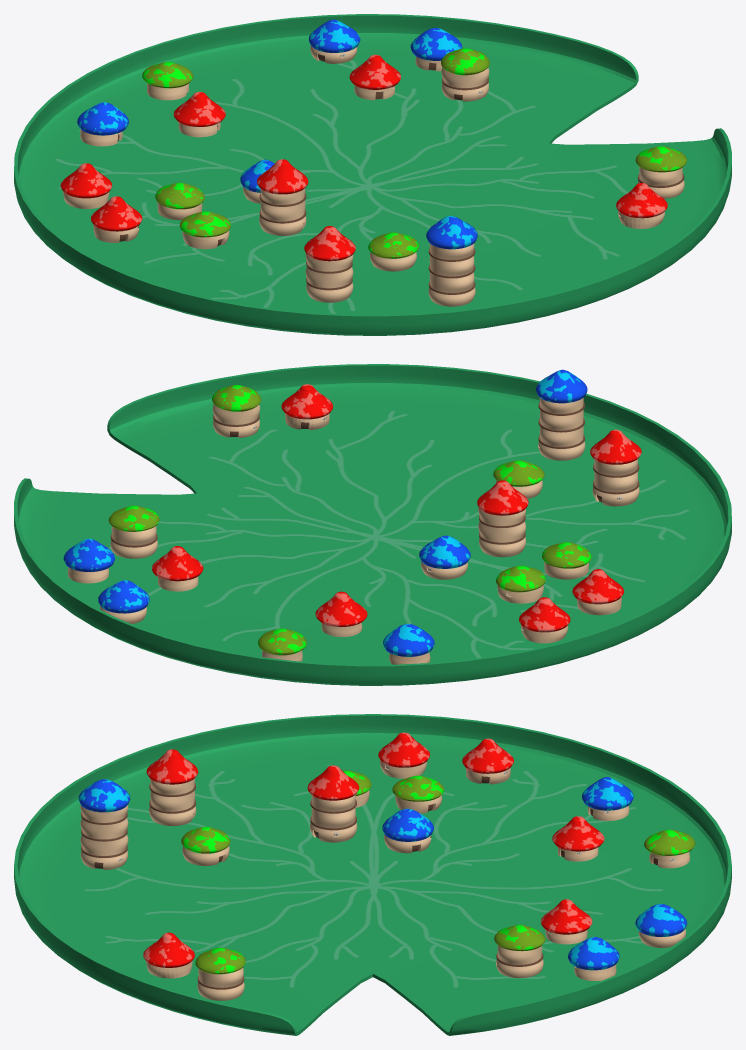
Rendered from CasaSapo.fbx.
3 views of the same model, one above another, from view 1: azimuth 30°, elevation 25°; view 2: azimuth 150°, elevation 25°; view 3: azimuth 270°, elevation 25° (orthographic).
Visible parts, largest first — view 1: Circle, Circle.001, Circle.027, Circle.032, Circle.003, Circle.018, Circle.015, Circle.006, Circle.008, Circle.029, Circle.011, Circle.021 (+7 smaller); view 2: Circle, Circle.001, Circle.032, Circle.027, Circle.003, Circle.018, Circle.035, Circle.023, Circle.011, Circle.006, Circle.029, Circle.019 (+7 smaller); view 3: Circle, Circle.001, Circle.032, Circle.027, Circle.003, Circle.018, Circle.035, Circle.015, Circle.029, Circle.023, Circle.006, Circle.011 (+6 smaller).
Part boxes in pixels (box(x1,y1,x2,y2)): Circle: box(14, 14, 731, 335); Circle.001: box(426, 216, 477, 306); Circle.027: box(304, 226, 355, 302); Circle.032: box(257, 159, 308, 235); Circle.003: box(441, 48, 489, 101); Circle.018: box(635, 146, 686, 198); Circle.015: box(309, 19, 360, 63); Circle.006: box(91, 196, 142, 242); Circle.008: box(77, 102, 128, 146); Circle.029: box(616, 183, 667, 228); Circle.011: box(60, 163, 112, 208); Circle.021: box(173, 91, 225, 137); Circle: box(14, 364, 731, 685); Circle.001: box(536, 369, 587, 460); Circle.032: box(477, 480, 528, 557); Circle.027: box(590, 429, 641, 506); Circle.003: box(108, 505, 159, 558); Circle.018: box(212, 385, 261, 437); Circle.035: box(419, 535, 470, 579); Circle.023: box(63, 538, 114, 583); Circle.011: box(519, 597, 570, 643); Circle.006: box(572, 569, 623, 615); Circle.029: box(281, 384, 333, 430); Circle.019: box(152, 546, 203, 591); Circle: box(14, 714, 731, 1035); Circle.001: box(78, 779, 130, 869); Circle.032: box(307, 765, 359, 842); Circle.027: box(146, 749, 198, 826); Circle.003: box(494, 925, 545, 978); Circle.018: box(195, 947, 245, 1000); Circle.035: box(382, 808, 433, 853); Circle.015: box(635, 904, 687, 947); Circle.029: box(143, 932, 194, 978); Circle.023: box(568, 937, 619, 980); Circle.006: box(378, 732, 429, 778); Circle.011: box(462, 738, 513, 784).
Bounding box in the file's own units: 973 × 125 × 978.
Materials: 13 (4 with a texture image).
